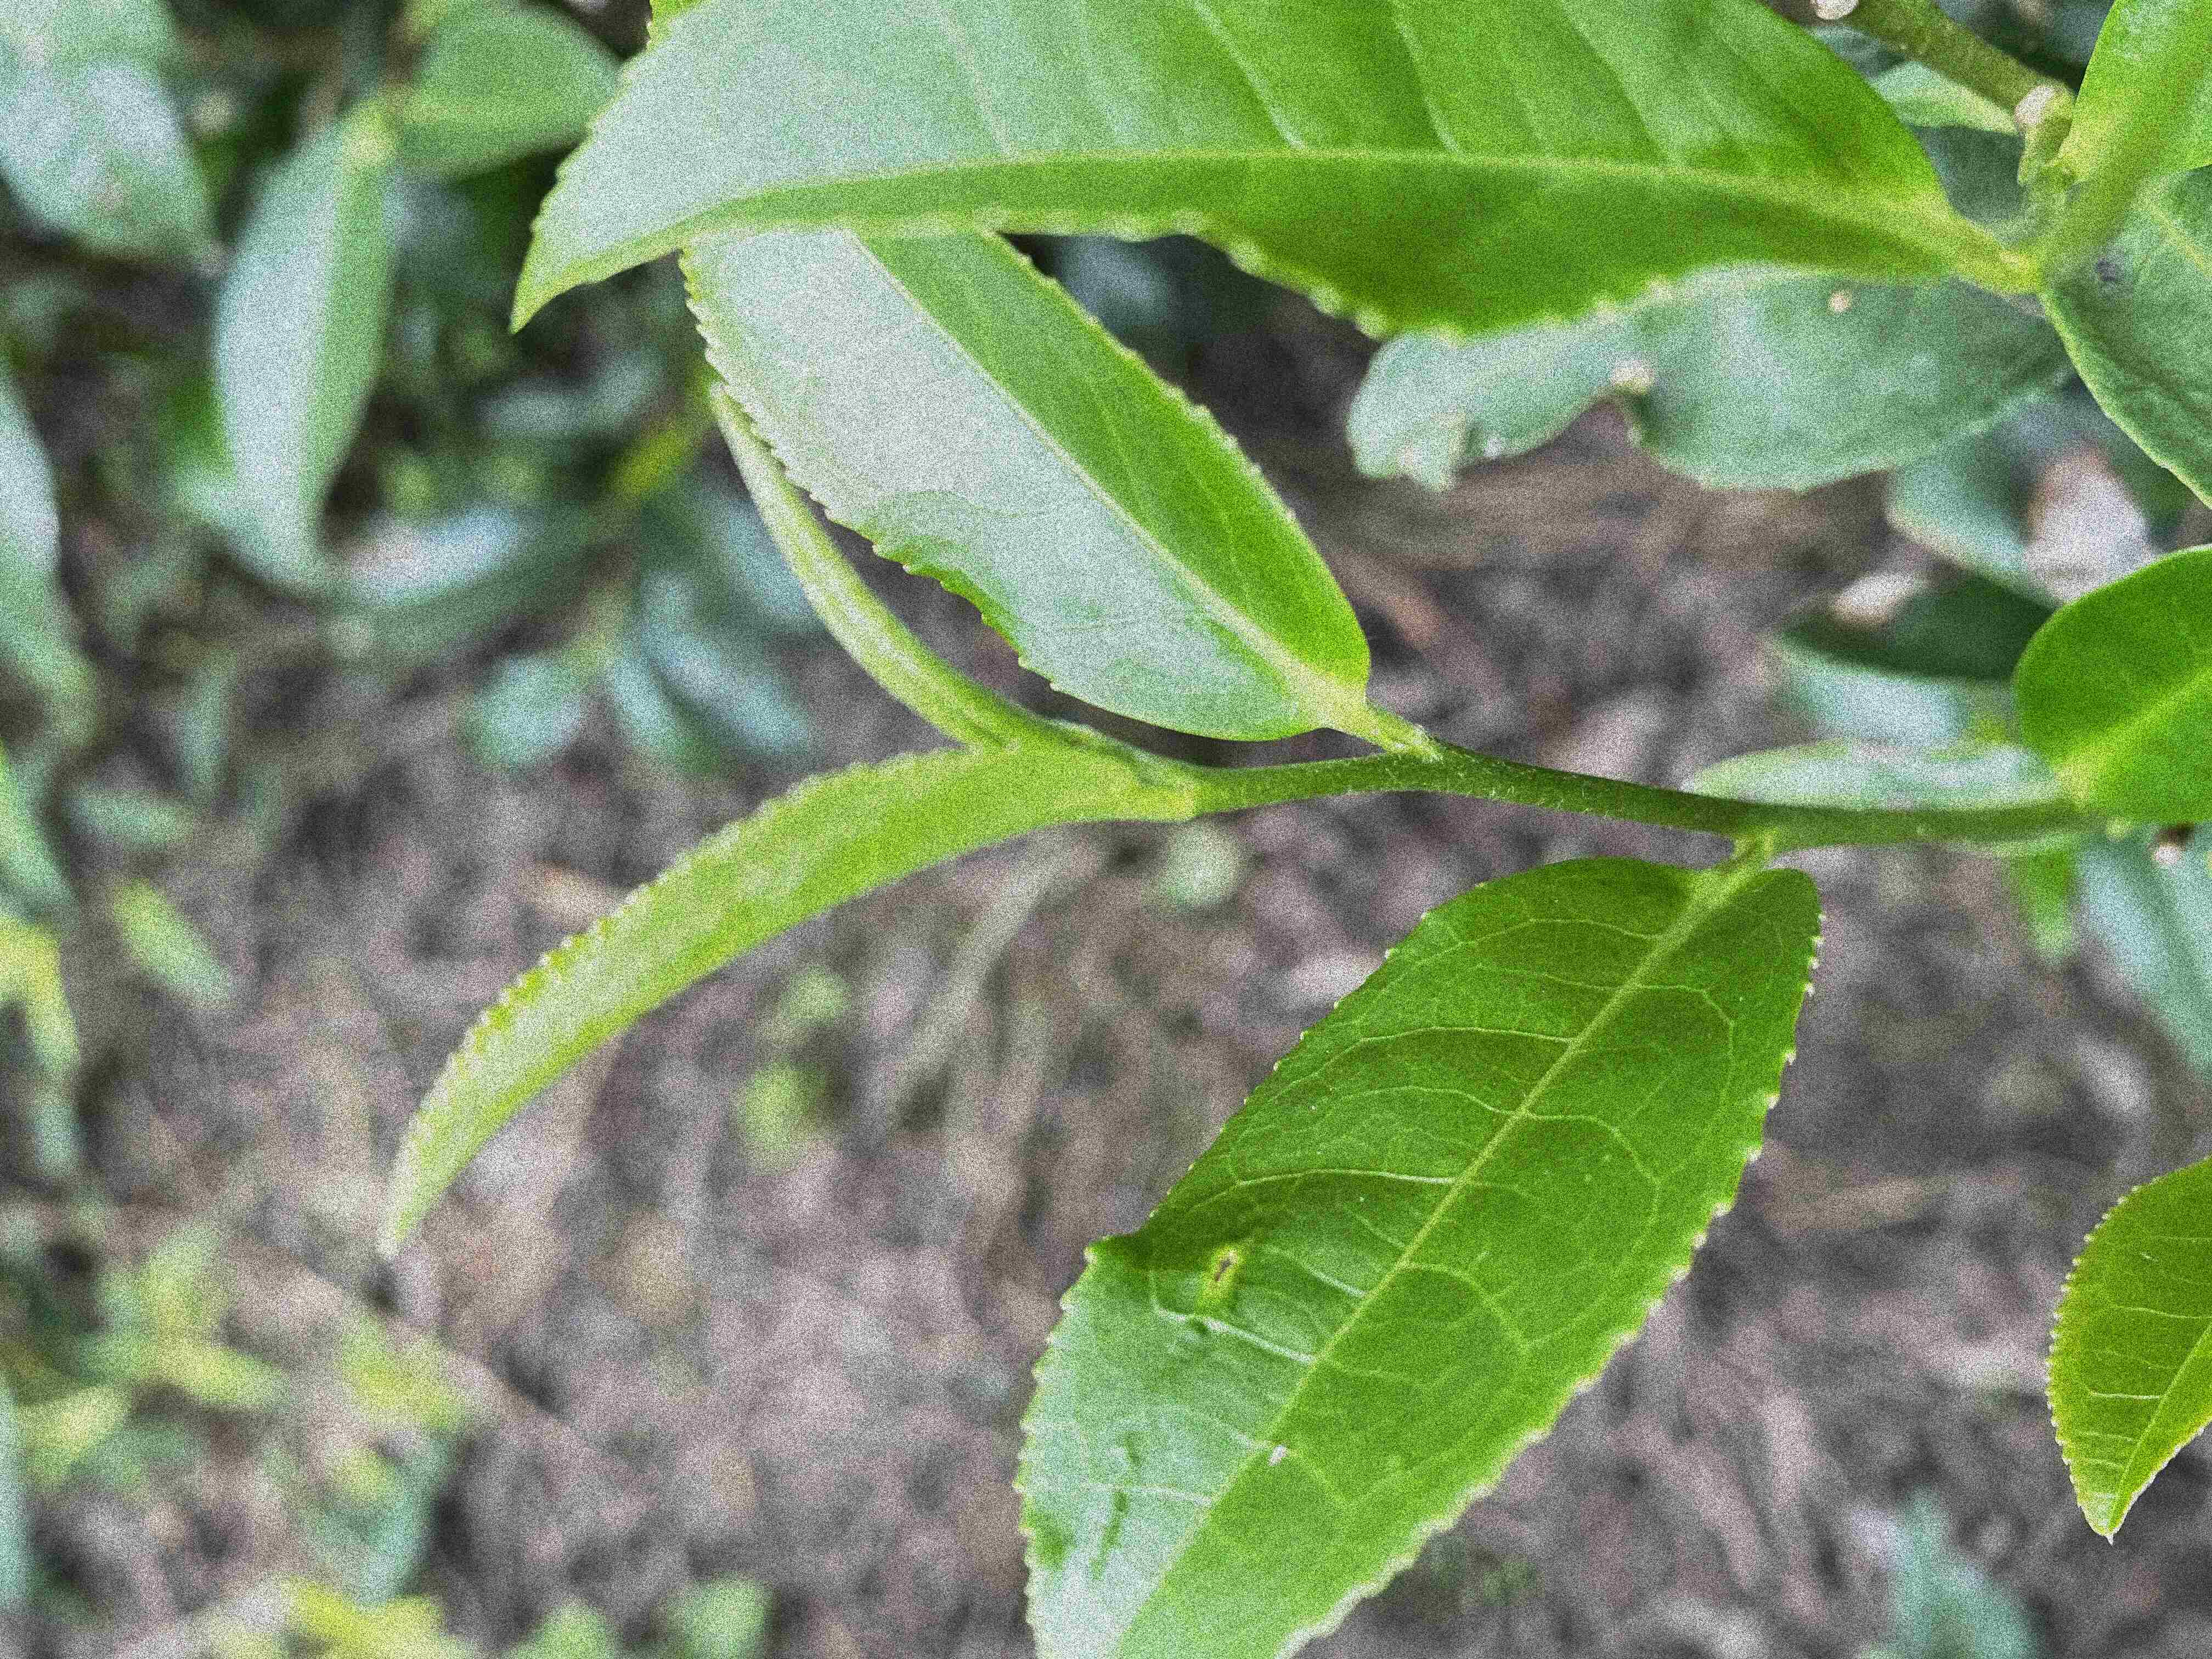healthy: (1014, 852, 1820, 1657), (503, 0, 1977, 347), (676, 232, 1369, 746), (2040, 1164, 2210, 1544)
